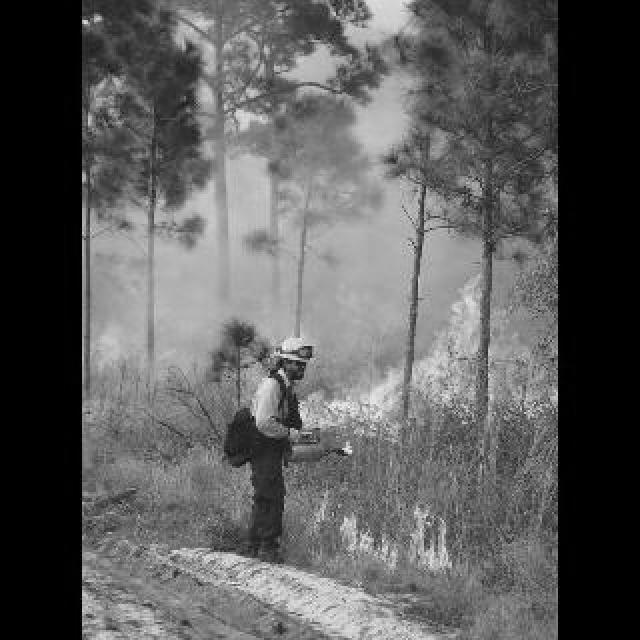Fire: (300, 282, 540, 434), (306, 476, 446, 570), (94, 296, 178, 372)
